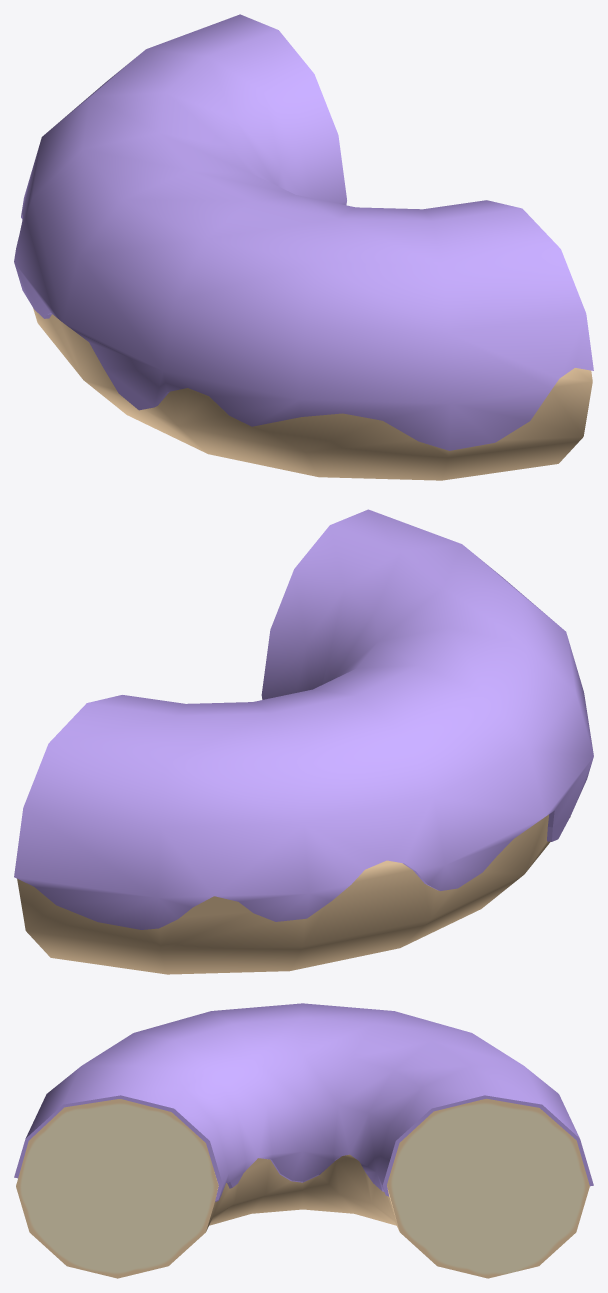
Rendered from donut_half.glb.
3 renders of one model, top to bottom at view 1: azimuth 30°, elevation 25°; view 2: azimuth 150°, elevation 25°; view 3: azimuth 270°, elevation 25°, orthographic. The views are drawn at different scales.
Visible parts, largest first — view 1: Glaze.001, Donut.001; view 2: Glaze.001, Donut.001; view 3: Donut.001, Glaze.001.
Boxes of the visible parts, <box> form: Glaze.001: <box>14,14,593,450</box>; Donut.001: <box>33,308,592,480</box>; Glaze.001: <box>14,509,593,929</box>; Donut.001: <box>17,814,570,974</box>; Donut.001: <box>16,1098,589,1278</box>; Glaze.001: <box>14,1003,593,1201</box>.
Size of the model in its own units: 1.57 by 1.09 by 3.13.
2 materials, 2 textured.
